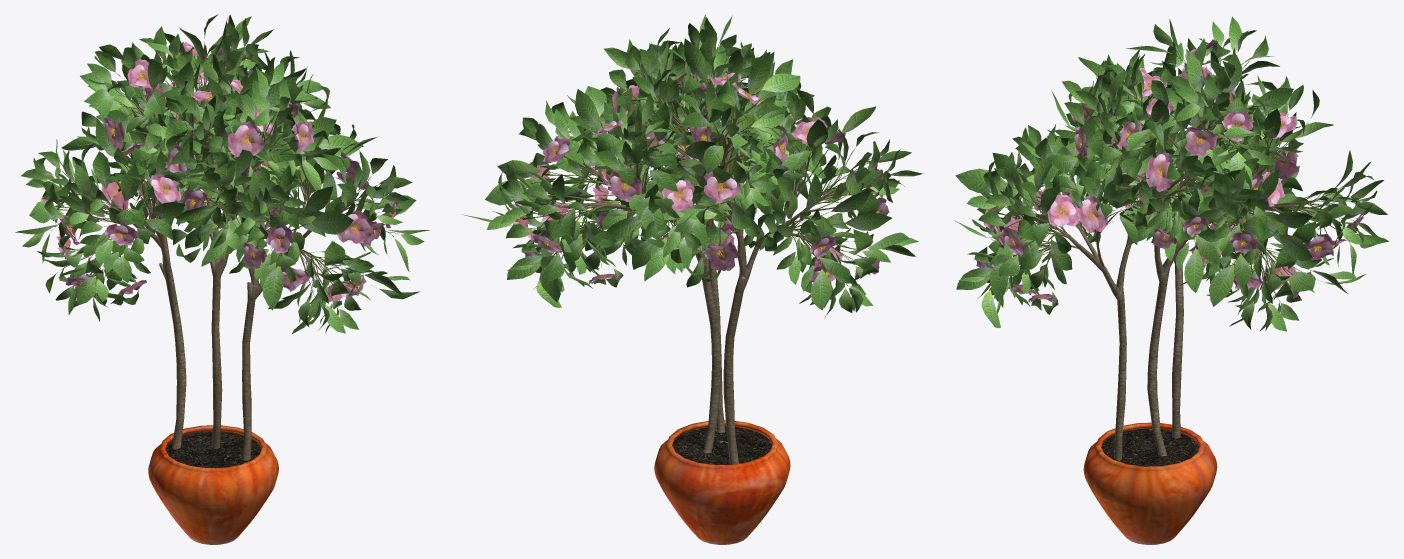
The model's file is plant_23.glb.
3 views of the same model, side by side, from view 1: azimuth 30°, elevation 25°; view 2: azimuth 150°, elevation 25°; view 3: azimuth 270°, elevation 25° (orthographic). The views are drawn at different scales.
Visible parts, largest first — view 1: Plants_VOL02_10; view 2: Plants_VOL02_10; view 3: Plants_VOL02_10.
Part boxes in pixels (x1,y1,x2,y2): Plants_VOL02_10: (15,14,429,544); Plants_VOL02_10: (462,14,923,544); Plants_VOL02_10: (954,16,1388,544).
Size of the model in its own units: 0.9143 by 1.23 by 0.9695.
Materials: 1 (1 with a texture image).
